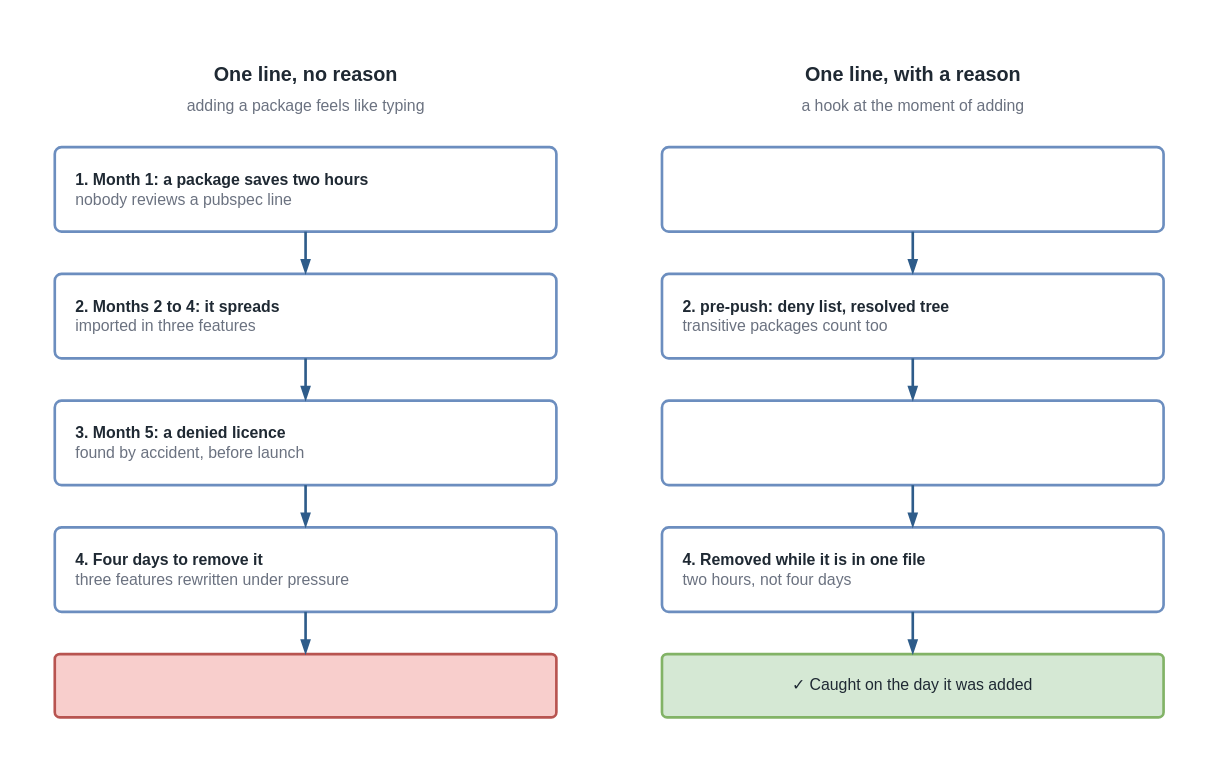
Some shapes in this 1217 by 771 pixel diagram are drawn without their labels. The shapes that lost their labels are listed below. From the top down, each one's centre as x and y in pixels, then its label:
At (x=912, y=188): "1. pre-commit: a row in dependencies.md why it is here, what removal costs".
At (x=912, y=442): "3. Agent: imports per package uuid: 0 files, fourteen packages: 1 file".
At (x=305, y=685): "✗ Licence risk compounds with time".
